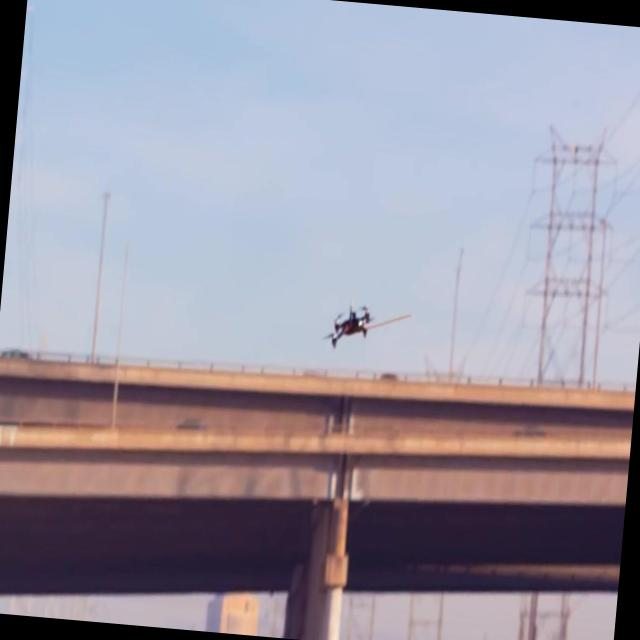drone: (322, 295, 373, 350)
